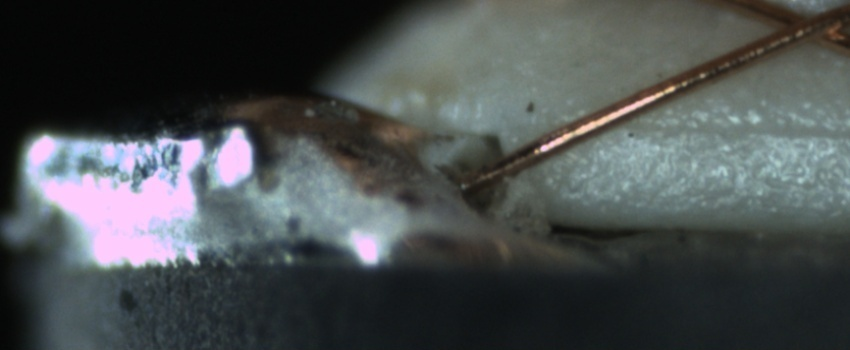CL: (757, 3, 844, 51)
DL: (614, 95, 845, 161)
